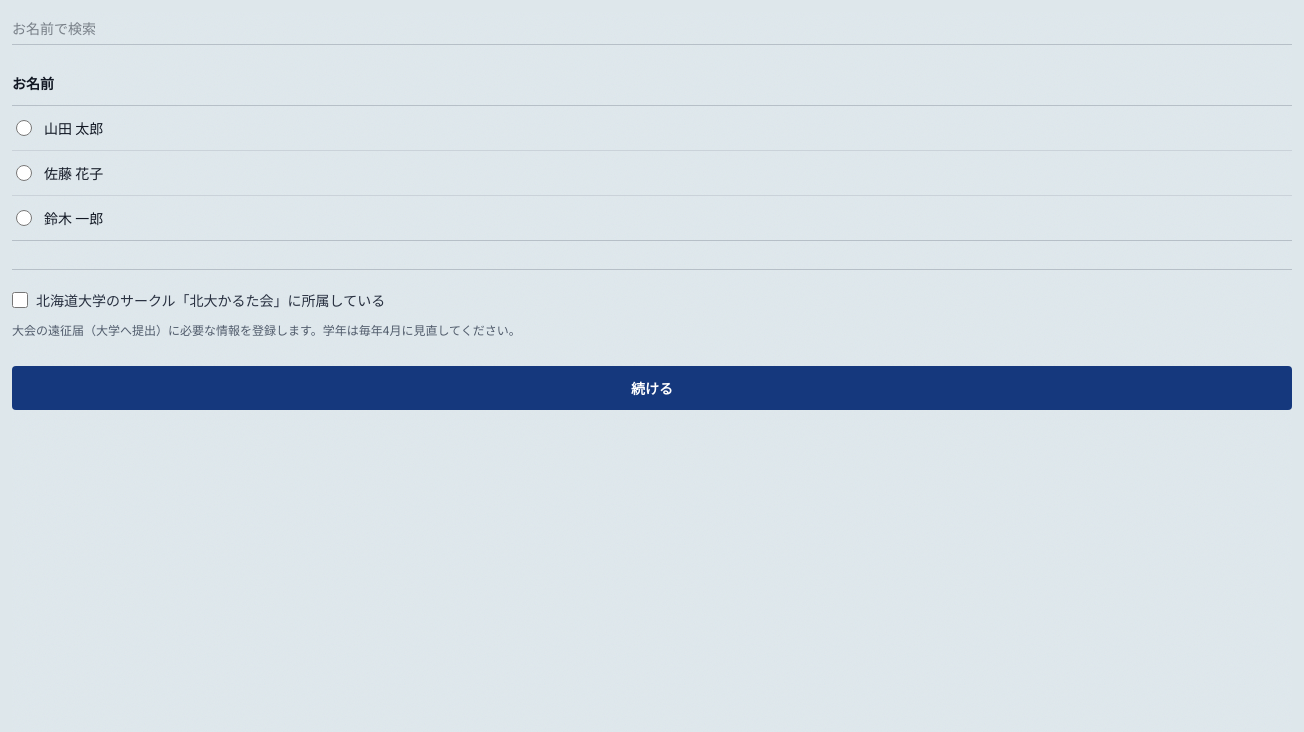
RosterClaimForm › サークル所属 ON: 所属セグメント・学部等名・学年が出る
Step 1. Click the checkbox labelled "北海道大学のサークル「北大かるた会」に所属している" → (20, 300), box [12, 292, 28, 308]
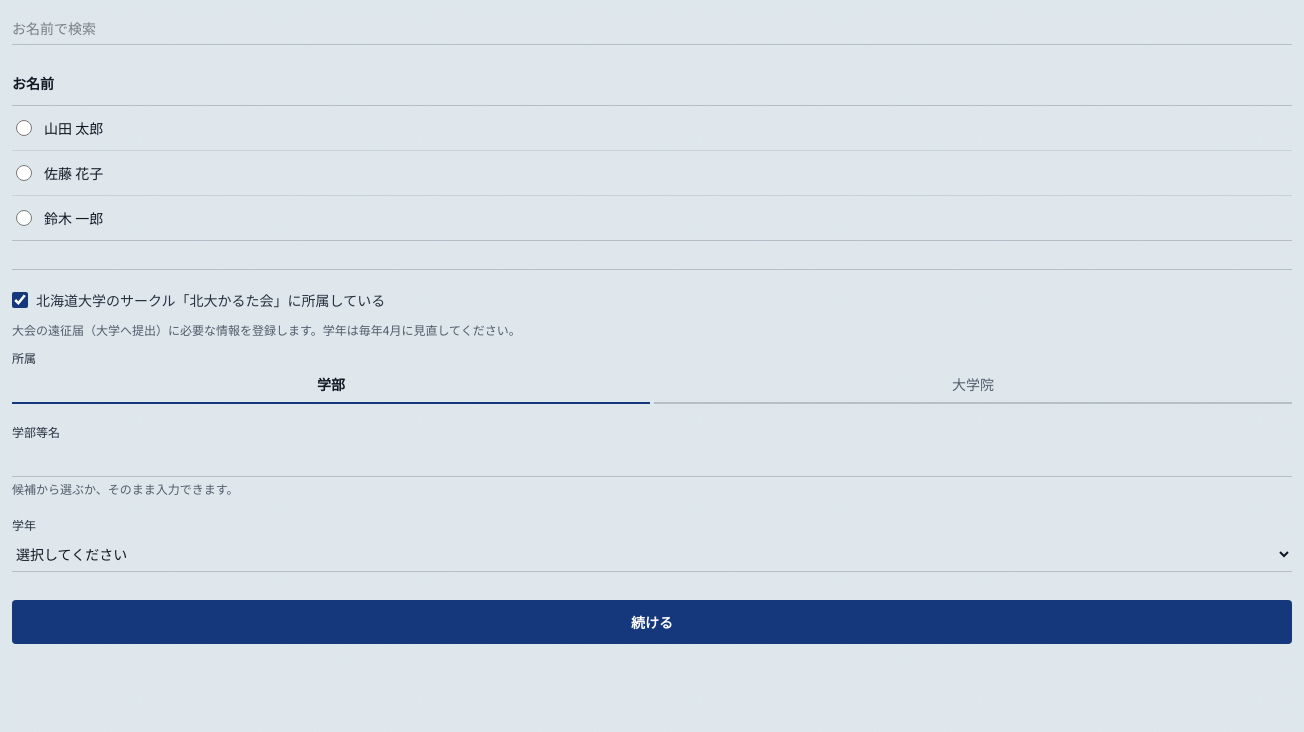
Expected: the element named "所属" is shown, [12, 370, 1292, 404]
Expected: the field labelled "学部等名" is shown, [12, 444, 1292, 477]
Expected: the dropdown labelled "学年" is shown, [12, 537, 1292, 572]
